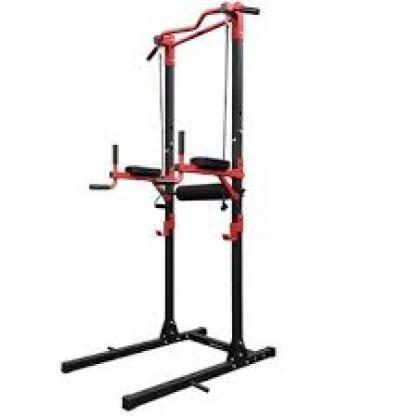chinning dipping: (61, 0, 276, 411)
